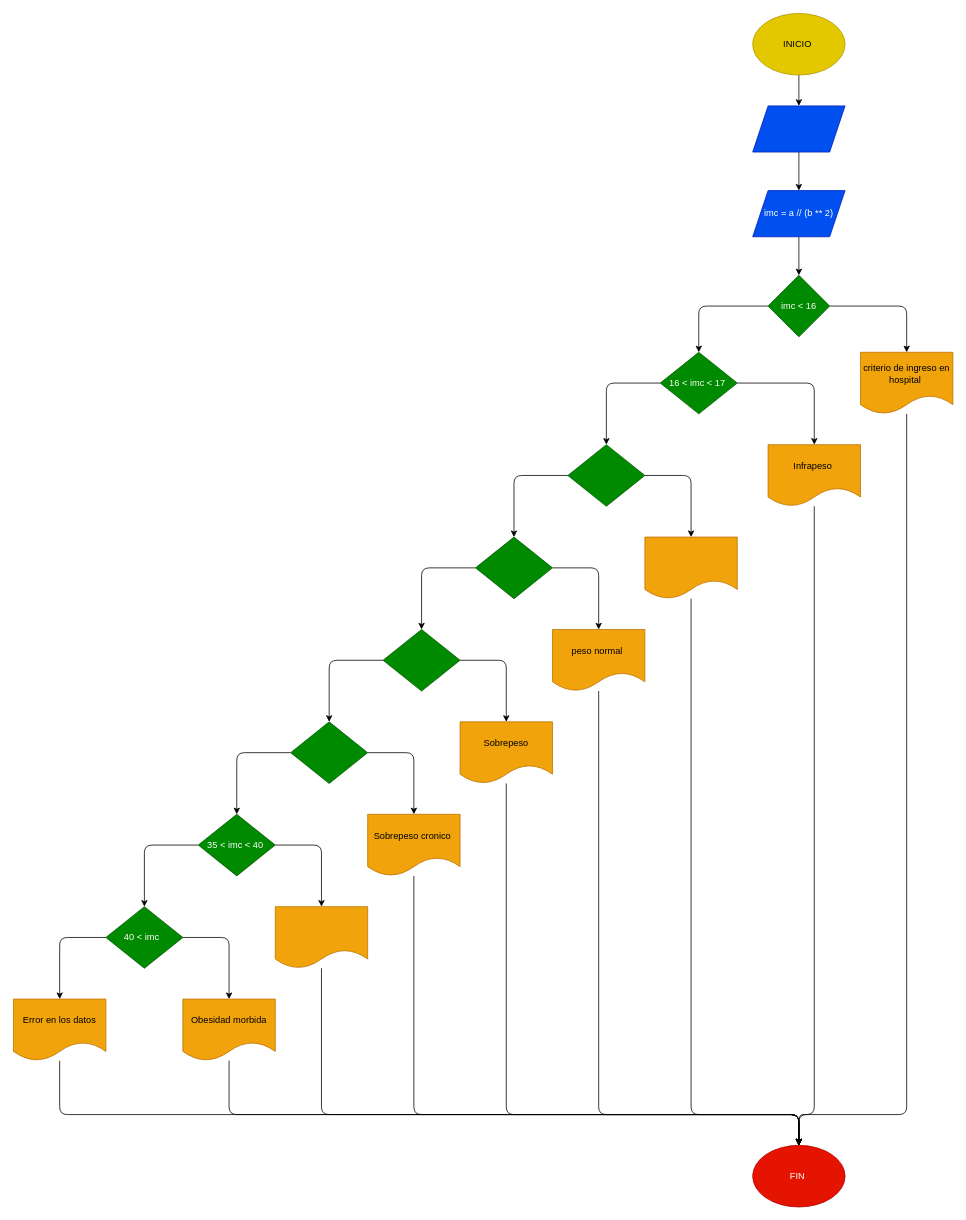
Image size: 966x1220. Some labels were removed from this diagram. The shapes that lost their labels are listed below. From the top down, each one's centre as x and y in pixels, then its label:
At point 798,128: "a,b".
At point 606,475: "17< imc < 18".
At point 513,567: "18 < imc < 25".
At point 690,567: "Bajo peso".
At point 421,660: "25 < imc < 30".
At point 329,752: "30 < imc < 35".
At point 321,937: "Obesidad premorbida".
